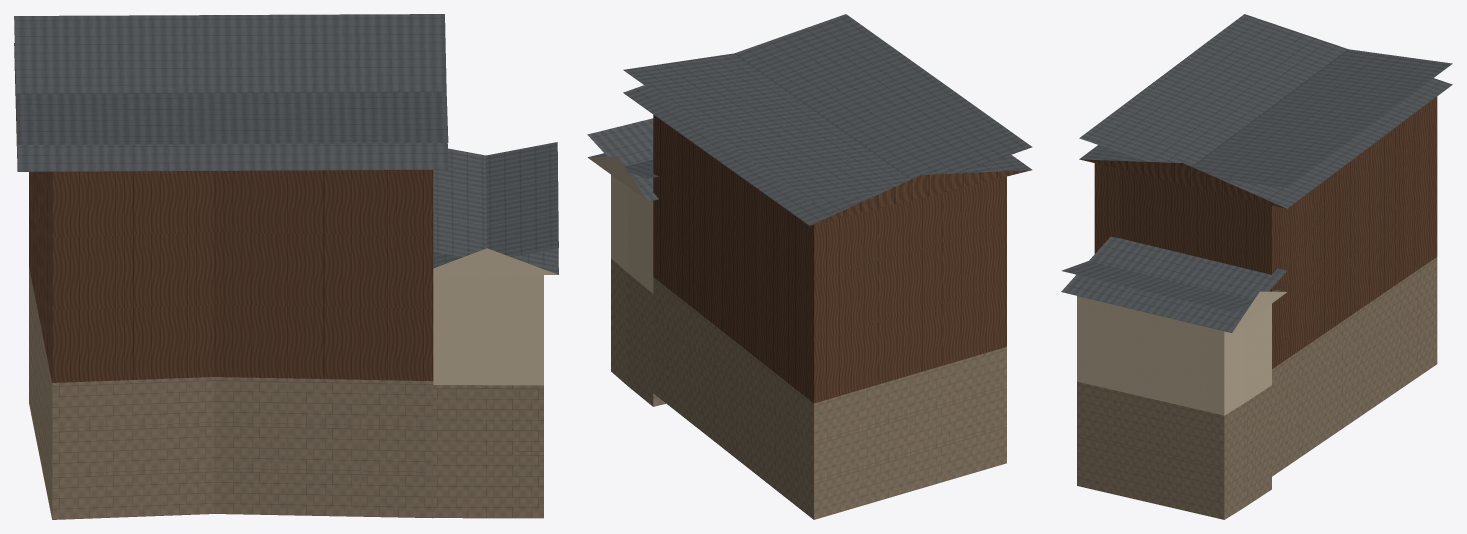
Rendered from bld_c41_-49_466.gltf.
The picture shows the model from 3 angles, left to right: view 1: azimuth 30°, elevation 25°; view 2: azimuth 150°, elevation 25°; view 3: azimuth 270°, elevation 25°; orthographic projection. The views are drawn at different scales.
Parts seen in each view (by area): view 1: bld_c41_-49_466; view 2: bld_c41_-49_466; view 3: bld_c41_-49_466.
Part boxes in pixels (x1,y1,x2,y2): bld_c41_-49_466: (14,14,558,519); bld_c41_-49_466: (587,14,1032,519); bld_c41_-49_466: (1061,14,1452,519).
Size of the model in its own units: 20.74 by 14.8 by 16.88.
Materials: 6 (6 with a texture image).
